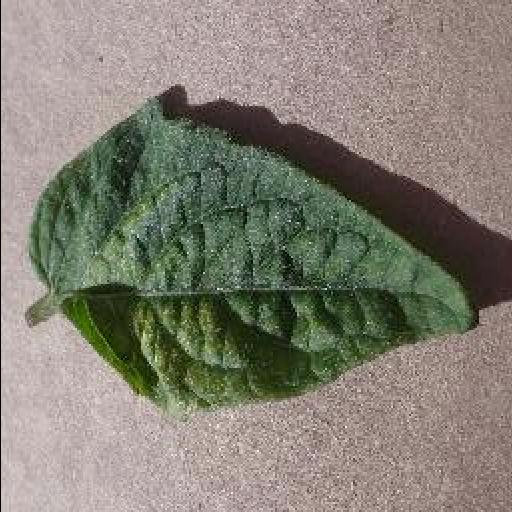disease_tomato: (25, 93, 479, 411)
